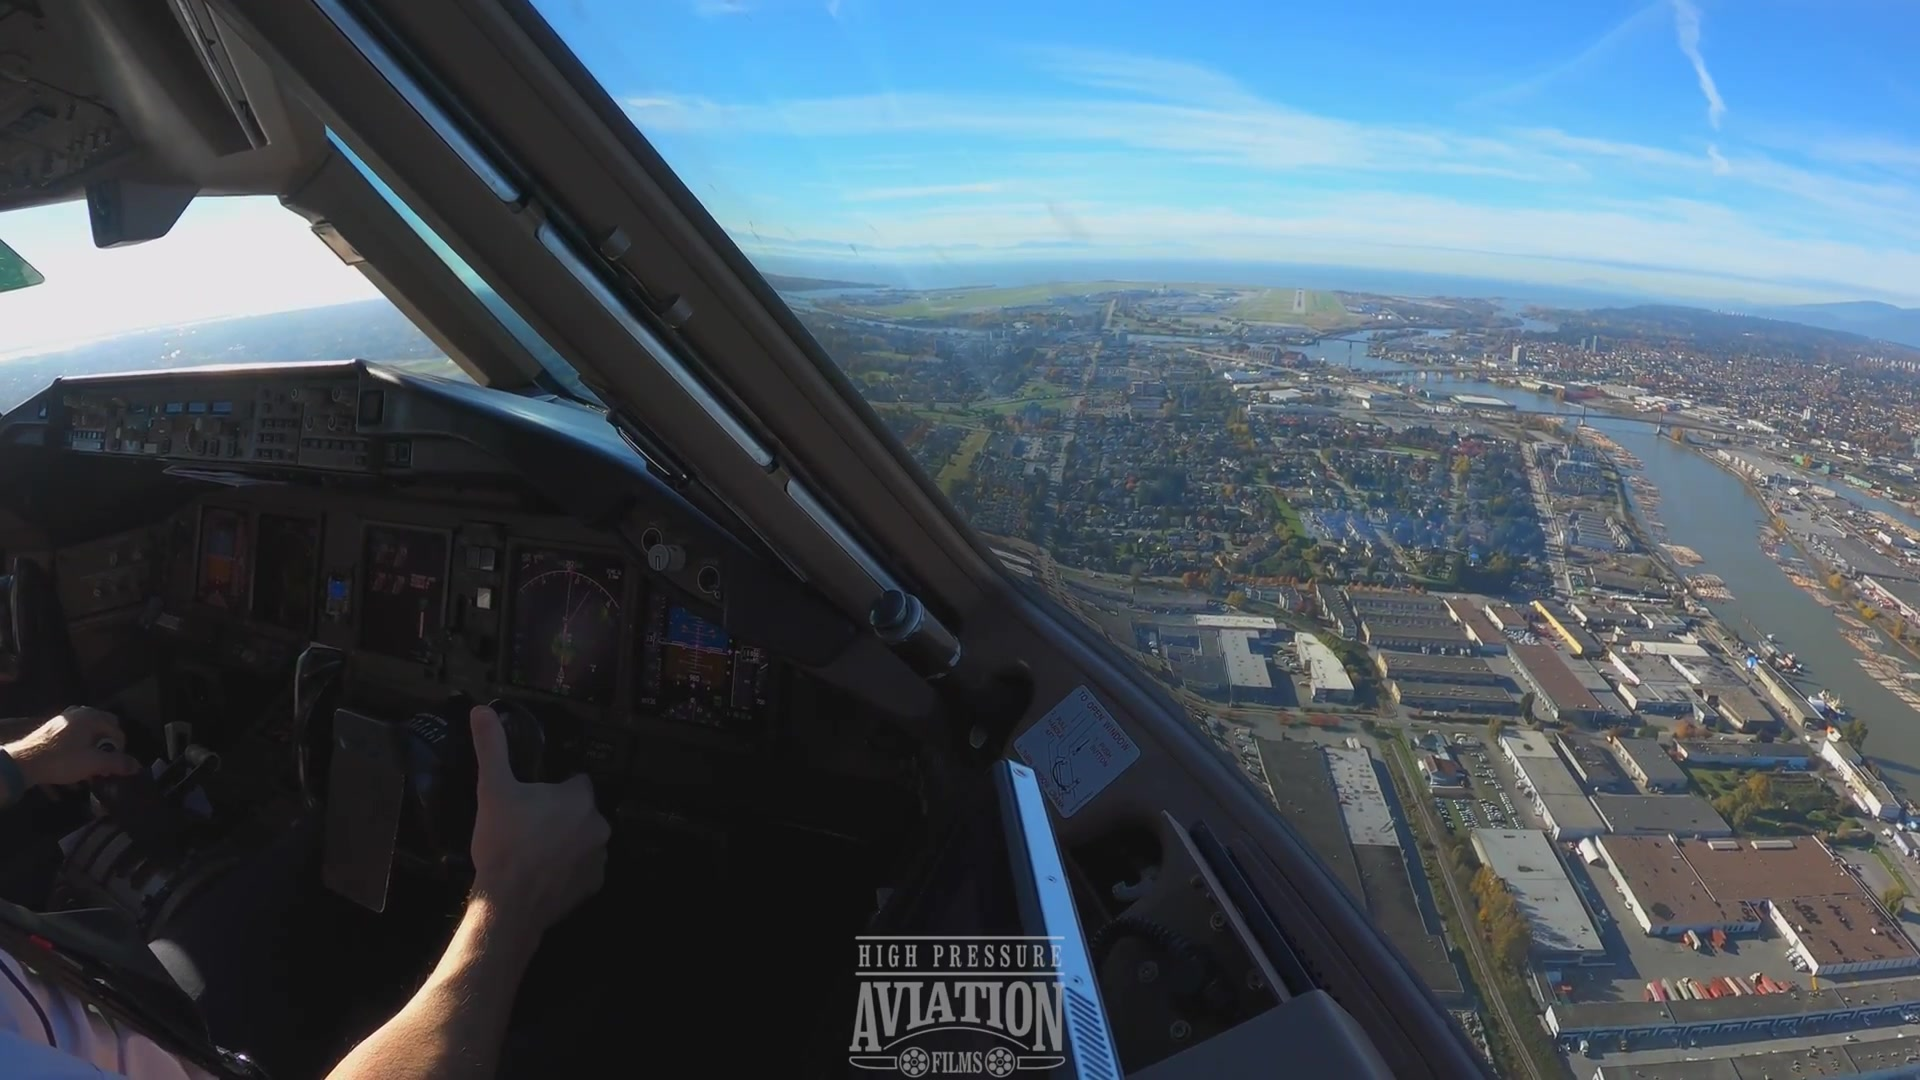runway: (1290, 290, 1309, 316)
